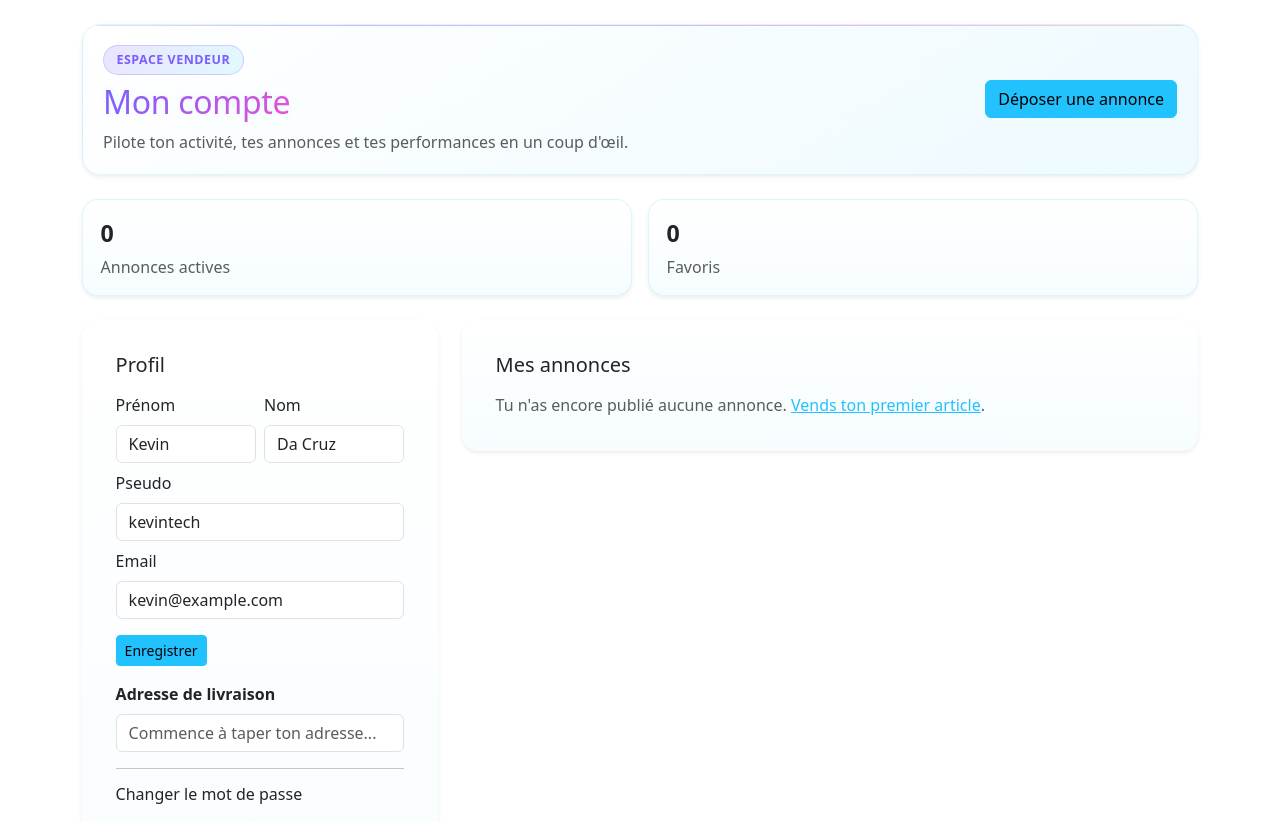
Test: Account › saves profile changes through the API
Replace the text in the field labelled "Pseudo" with "nouveaupseudo" at [260, 522], box [116,503,404,541]
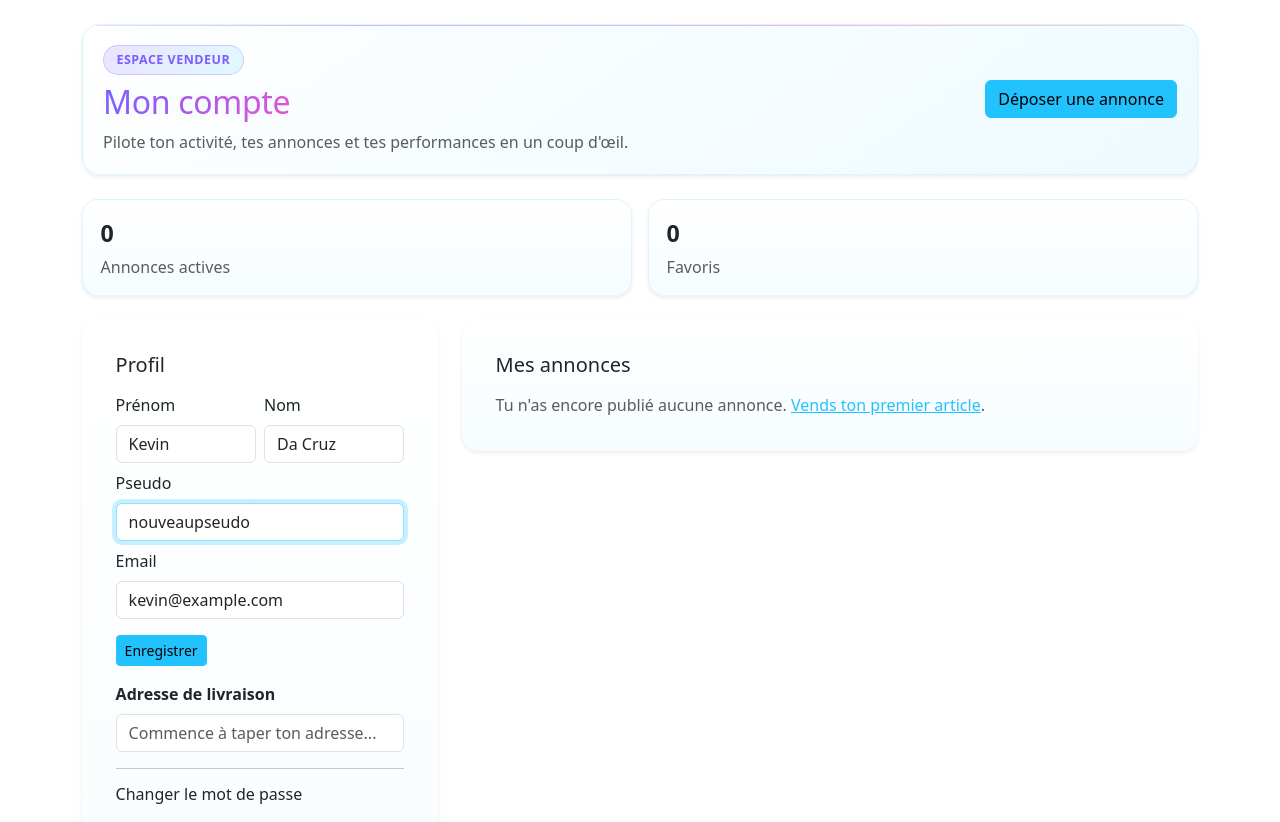
Click the button "Enregistrer" at [161, 651], box [116,635,207,666]
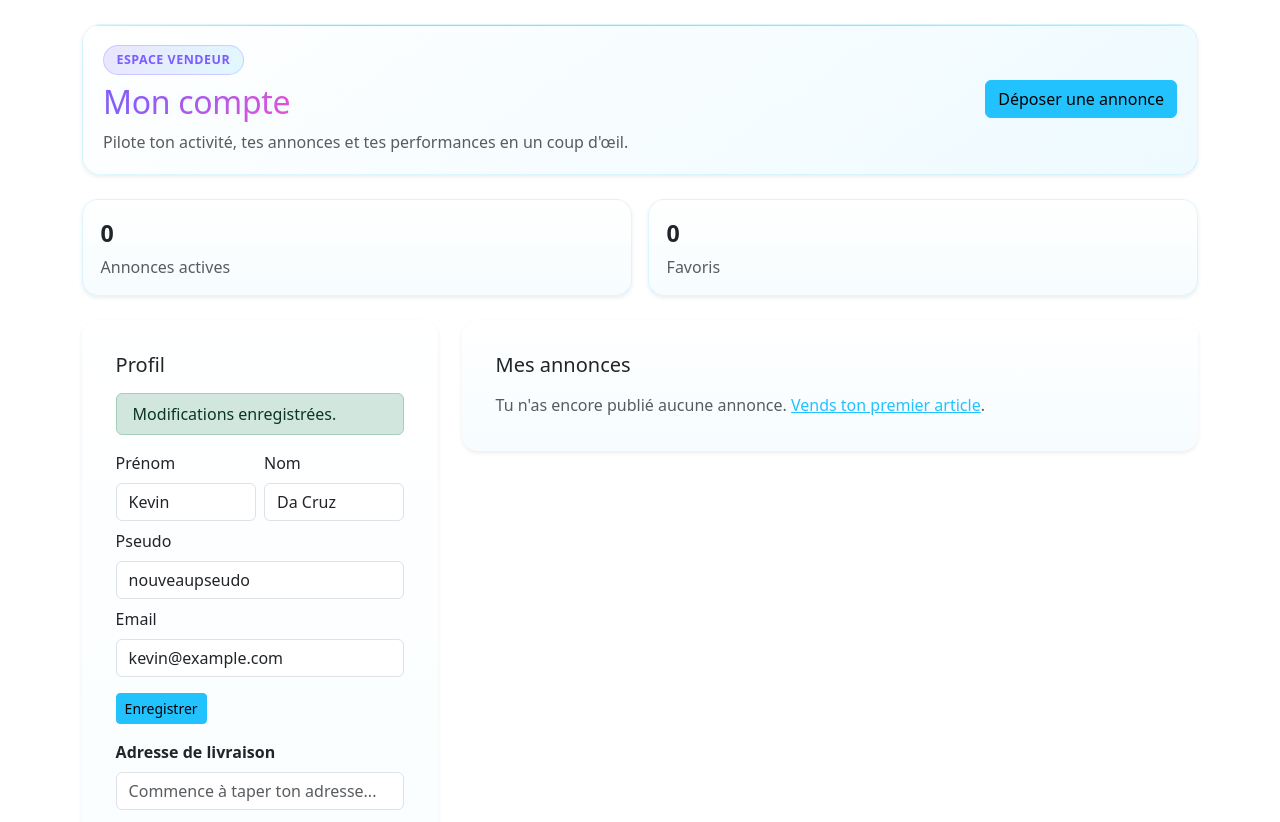
Expected: the text "Modifications enregistrées." is shown, [116,393,404,435]
